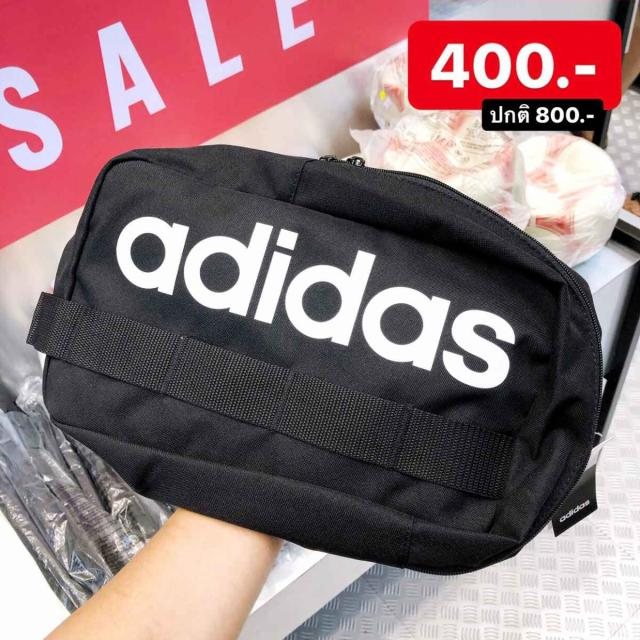Handbag: (42, 145, 603, 574)
